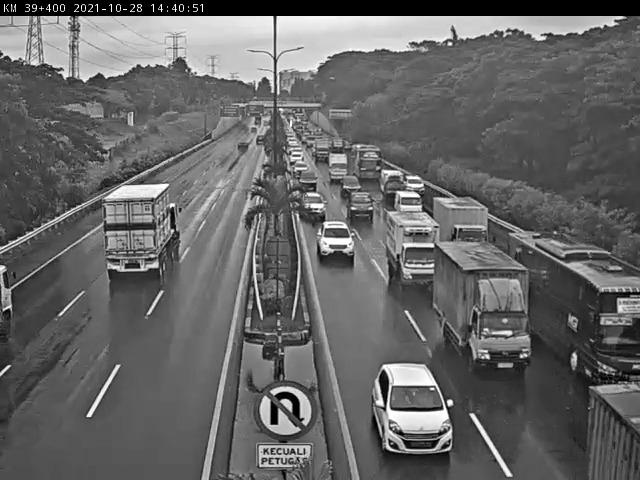big bus: (508, 232, 640, 390)
big truck: (103, 182, 181, 279)
car: (372, 362, 455, 453), (315, 221, 356, 259), (347, 190, 375, 218), (298, 190, 325, 219), (394, 189, 423, 212)
mid truck: (434, 239, 534, 369), (384, 210, 442, 288), (434, 197, 490, 243)
